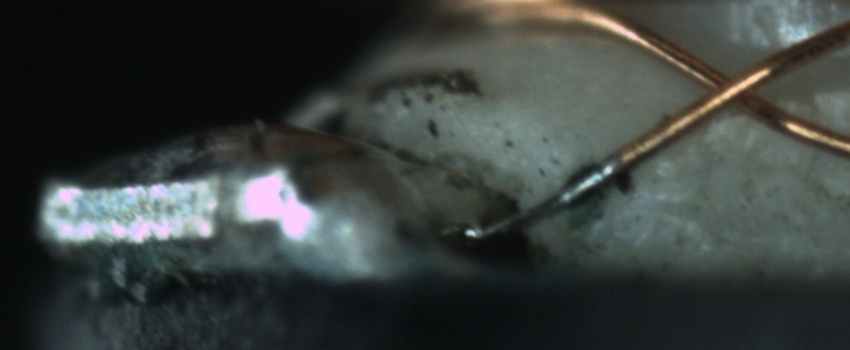CL: (686, 53, 782, 122)
TS: (466, 155, 623, 241)
TTCW: (462, 132, 652, 243)
